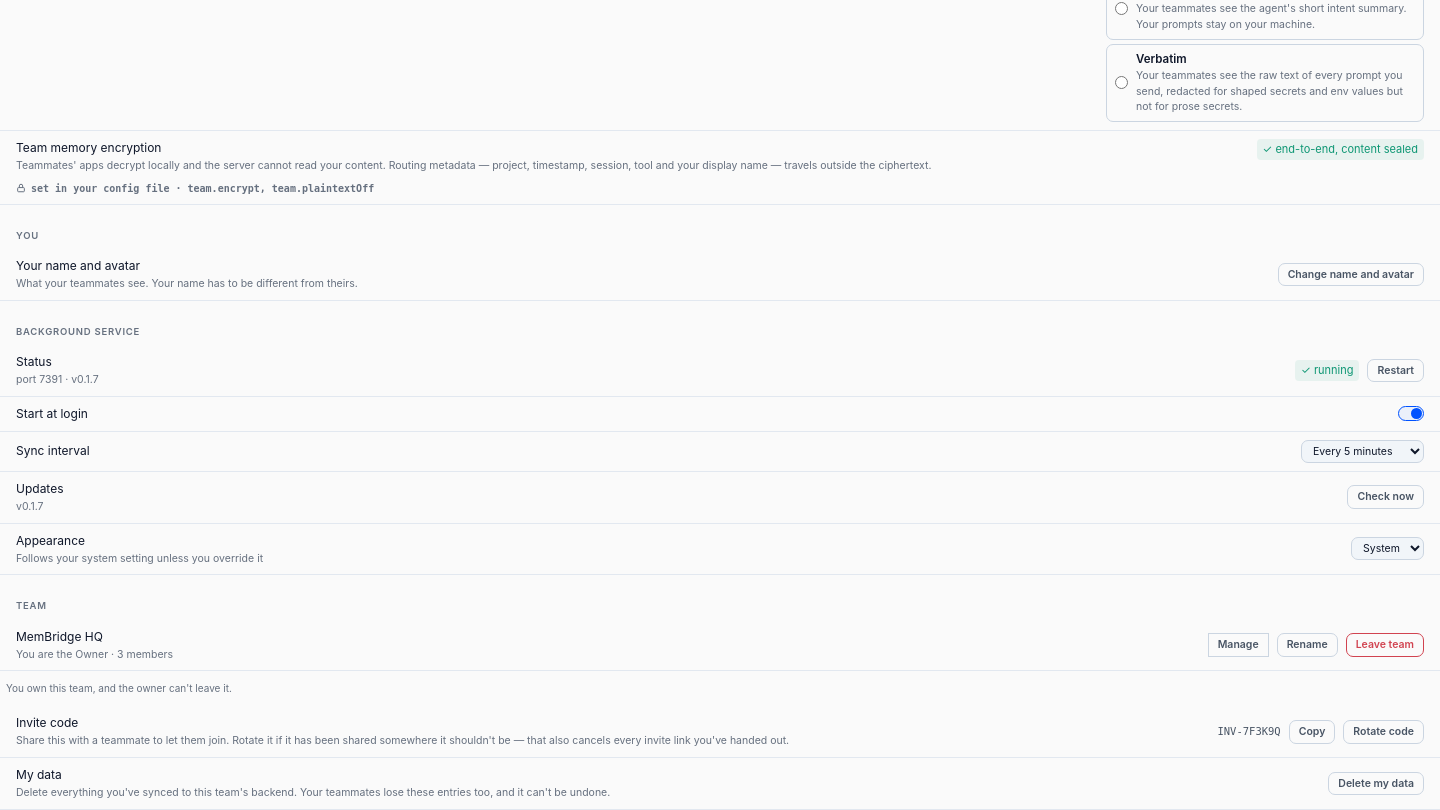
Scenario: rotating the standing invite code › warns that outstanding invite links die with it, because the RPC revokes them
(page scrolled)
Click the button "Rotate code". click: {"x": 1384, "y": 732}
box: x1=1343 y1=720 x2=1424 y2=744
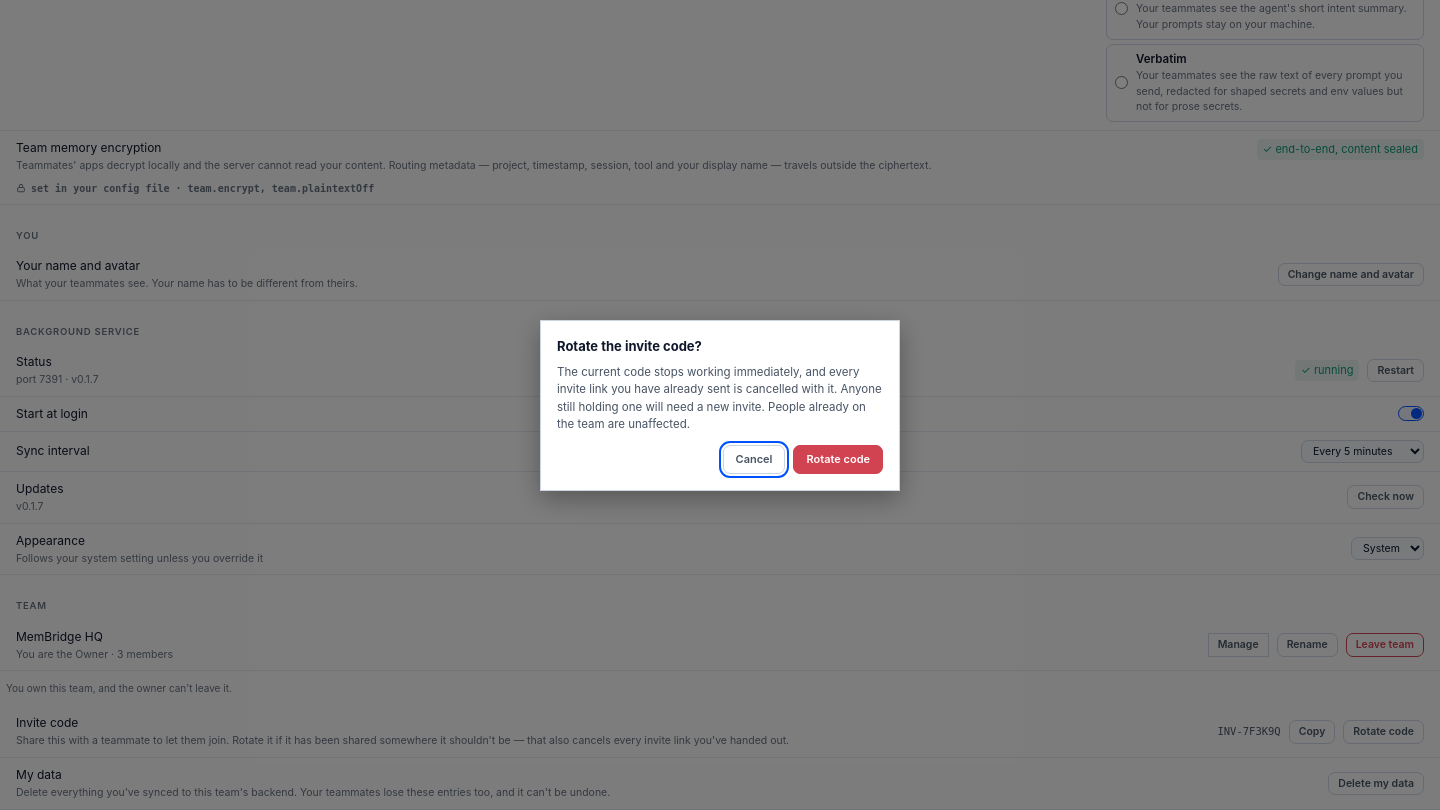
Expected: the dialog shows "every invite link you have already sent is cancelled", x1=557 y1=365 x2=882 y2=431
Expected: the dialog shows "already on the team are unaffected", x1=557 y1=365 x2=882 y2=431
